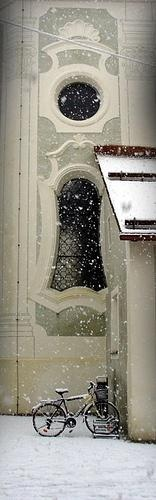bicycle: (31, 381, 121, 439)
